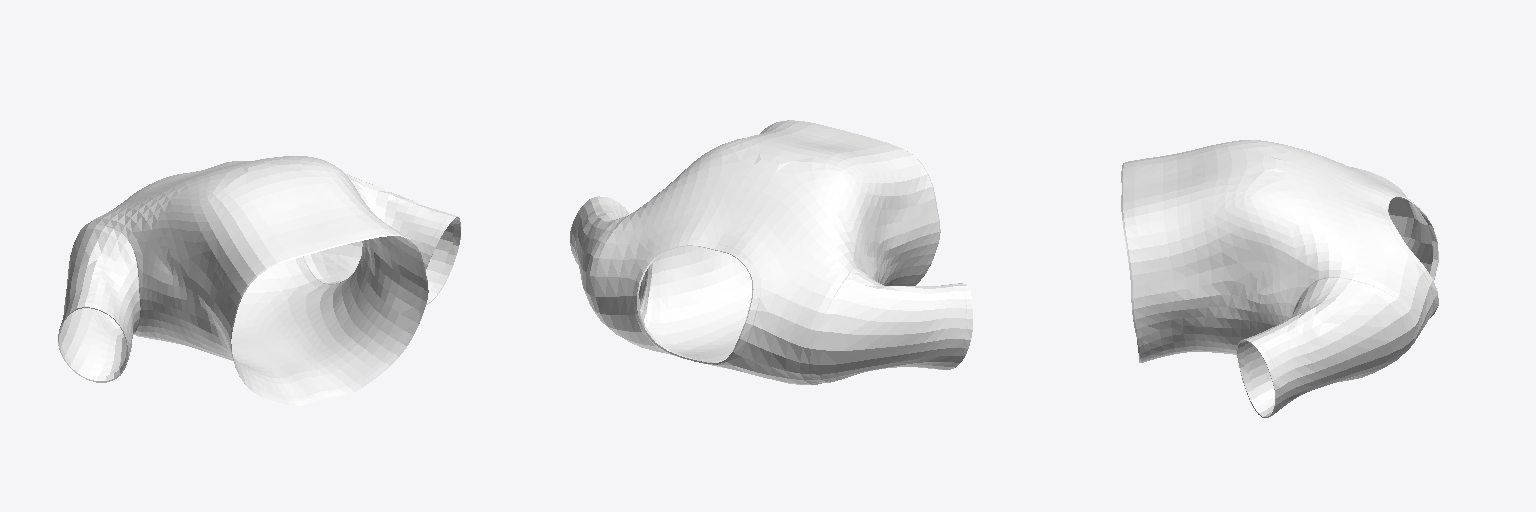
The picture shows the model from 3 angles: view 1: azimuth 30°, elevation 25°; view 2: azimuth 150°, elevation 25°; view 3: azimuth 270°, elevation 25°; orthographic projection.
Parts seen in each view (by area): view 1: Top_Low_obj; view 2: Top_Low_obj; view 3: Top_Low_obj.
Part boxes in pixels (bbox=[...]): Top_Low_obj: bbox=[58, 156, 460, 405]; Top_Low_obj: bbox=[570, 120, 972, 384]; Top_Low_obj: bbox=[1121, 140, 1438, 417].
Bounding box in the file's own units: 33.18 × 14.77 × 22.67.
Materials: 1 (1 with a texture image).